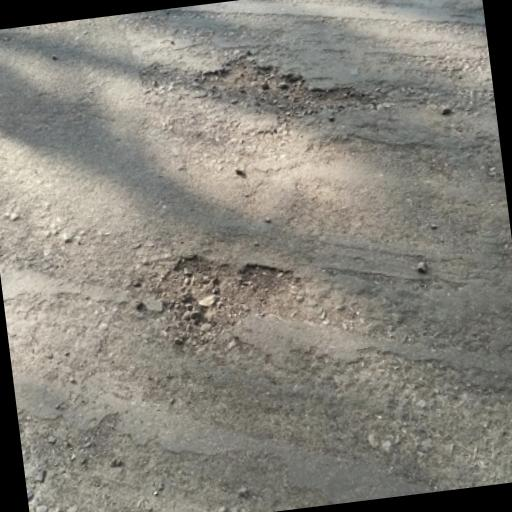pothole: (190, 38, 380, 140), (153, 237, 308, 359)
